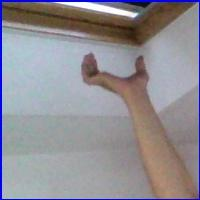space: (77, 48, 155, 98)
